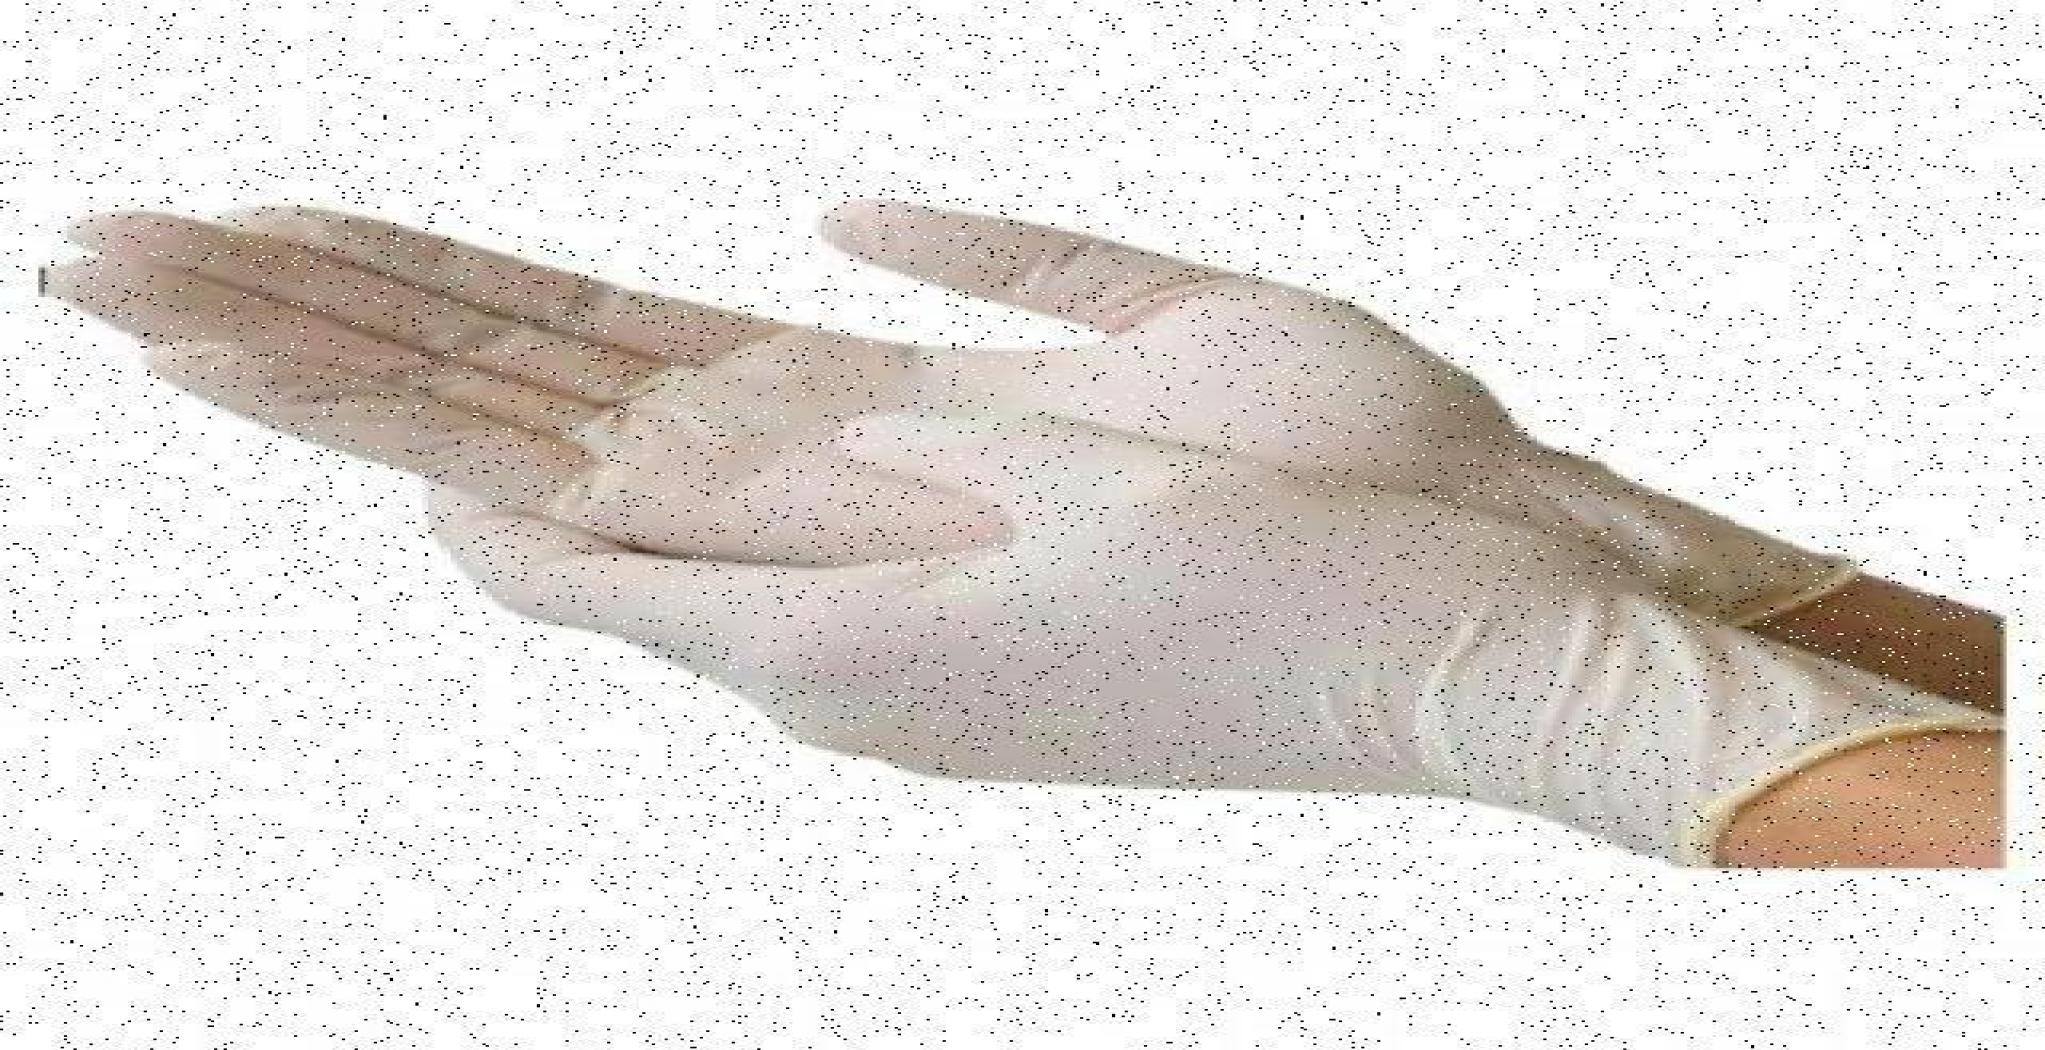gloved: (103, 175, 1894, 828)
